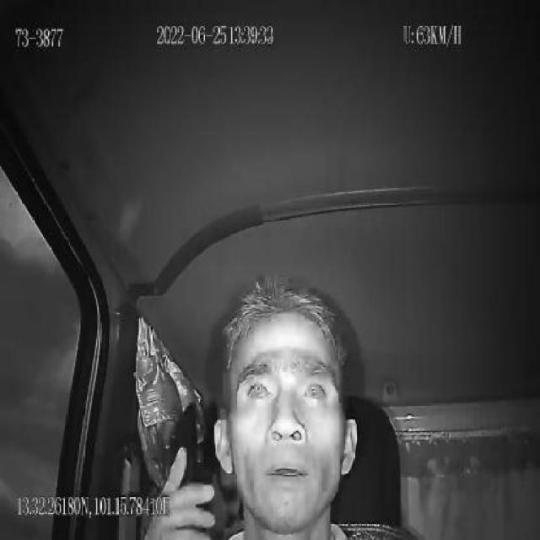phone: (165, 400, 199, 540)
